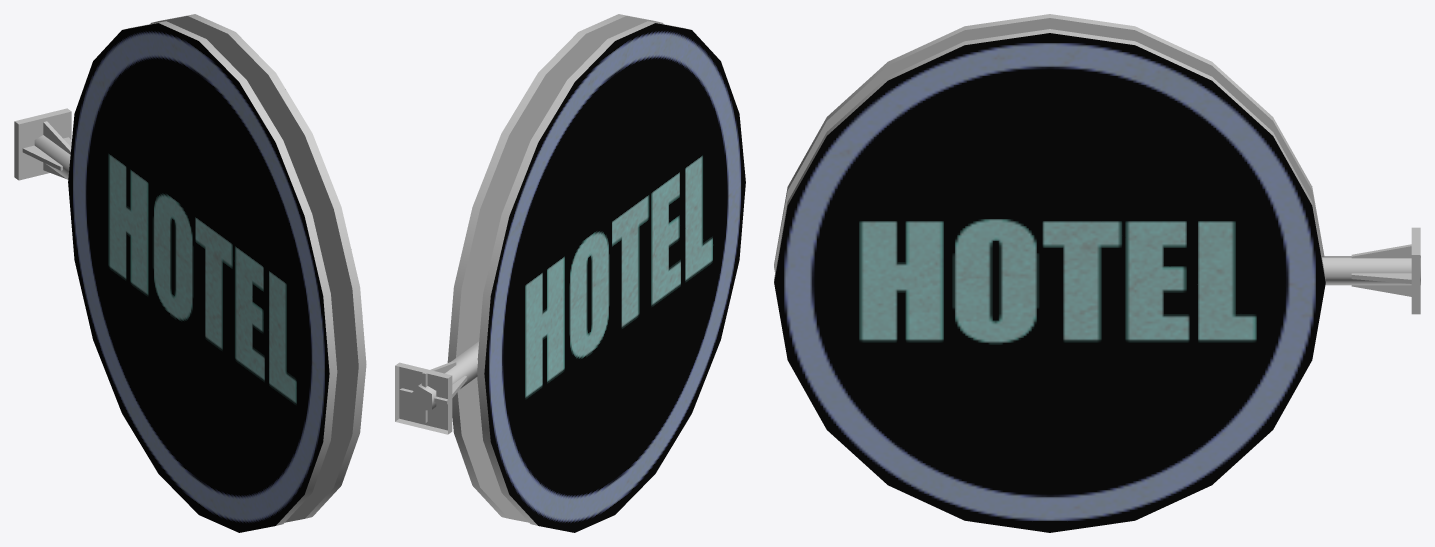
3 renders of one model, left to right at view 1: azimuth 30°, elevation 25°; view 2: azimuth 150°, elevation 25°; view 3: azimuth 270°, elevation 25°, orthographic. The views are drawn at different scales.
Visible parts, largest first — view 1: bb_04_a; view 2: bb_04_a; view 3: bb_04_a.
Boxes of the visible parts, x1,y1,x2,y2 form: bb_04_a: [14, 14, 366, 532]; bb_04_a: [395, 14, 745, 532]; bb_04_a: [774, 14, 1420, 532].
Bounding box in the file's own units: 0.2364 × 2.37 × 2.02.
